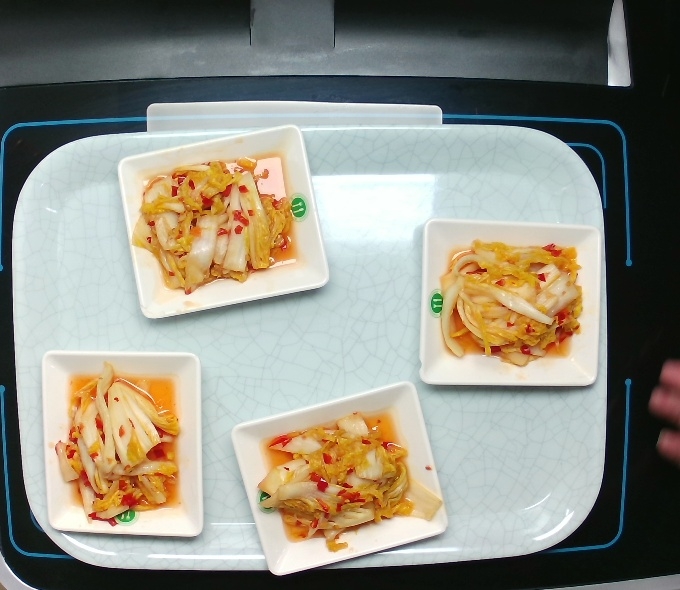wcq-SuanLaBaiCai: (252, 407, 443, 562), (130, 148, 302, 302), (51, 360, 185, 530), (435, 231, 589, 373)
